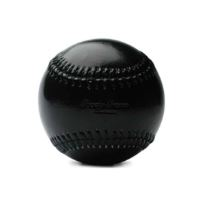Dead: (30, 29, 182, 178)
